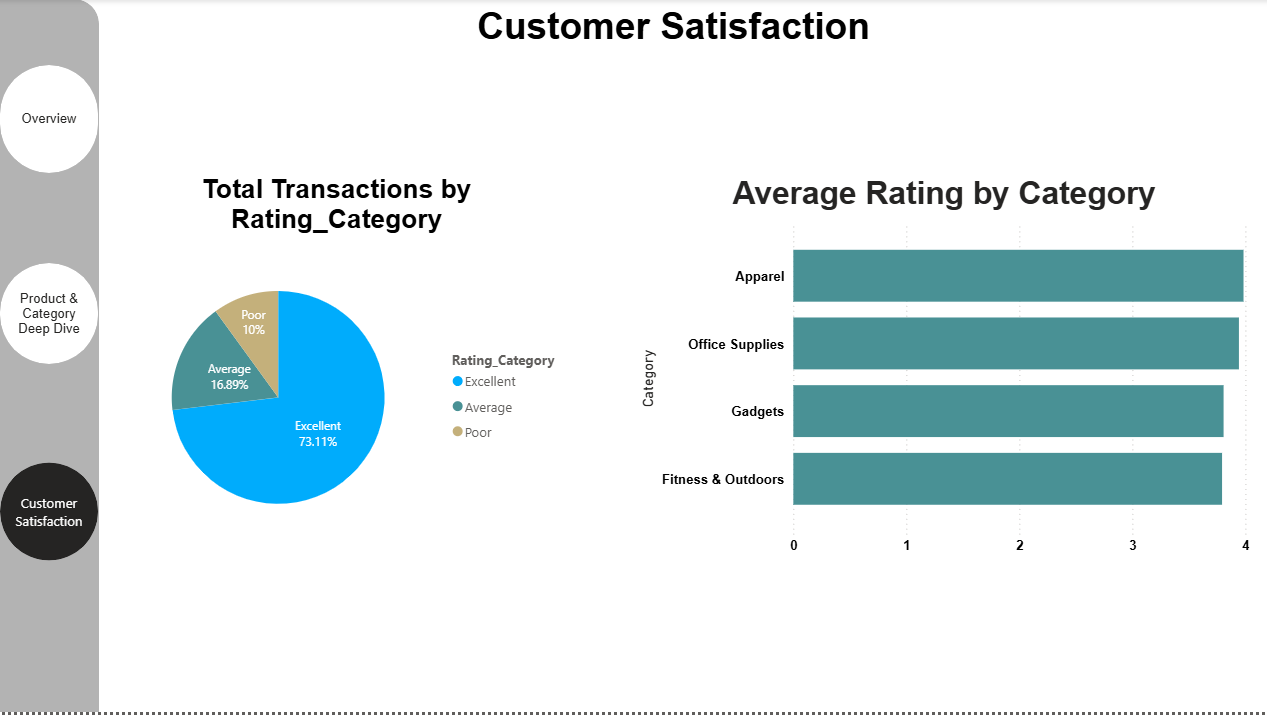

This screenshot's page, from the dashboard's own definition file:
{"tool":"powerbi","page":{"name":"Customer Satisfaction","canvas":[1280,720],"ordinal":2},"visuals":[{"type":"shape","box":[0,0,99.9,720.8],"z":0},{"type":"textbox","box":[414.9,0,530,57.5],"z":1000},{"type":"pieChart","fields":{"Category":["Sheet1.Rating_Category"],"Y":["Sheet1.Total Transactions"]},"box":[99.9,177.2,480,390.7],"z":2000},{"type":"clusteredBarChart","fields":{"Category":["Sheet1.Category"],"Y":["Sheet1.Average Rating"]},"box":[640.5,177.2,625.4,390.7],"z":3000},{"type":"pageNavigator","box":[0,467.9,99.9,99.9],"z":4000},{"type":"pageNavigator","box":[0,266.5,99.9,103],"z":5000},{"type":"pageNavigator","box":[0,66.6,99.9,109],"z":6000},{"type":"actionButton","box":[0,66.6,99.9,109],"z":7000},{"type":"actionButton","box":[0,266.5,99.9,109],"z":8000}]}

Visuals, with their boxes in screenshot pixels (x1, y1, x2, y2), scaled from the page's 1280x720 canvas onto the 1267x715 screenshot:
shape: locate(0, 0, 99, 714)
textbox: locate(411, 0, 935, 57)
pieChart - Sheet1.Rating_Category x Sheet1.Total Transactions: locate(99, 176, 574, 564)
clusteredBarChart - Sheet1.Category x Sheet1.Average Rating: locate(634, 176, 1253, 564)
pageNavigator: locate(0, 465, 99, 564)
pageNavigator: locate(0, 265, 99, 367)
pageNavigator: locate(0, 66, 99, 174)
actionButton: locate(0, 66, 99, 174)
actionButton: locate(0, 265, 99, 373)
